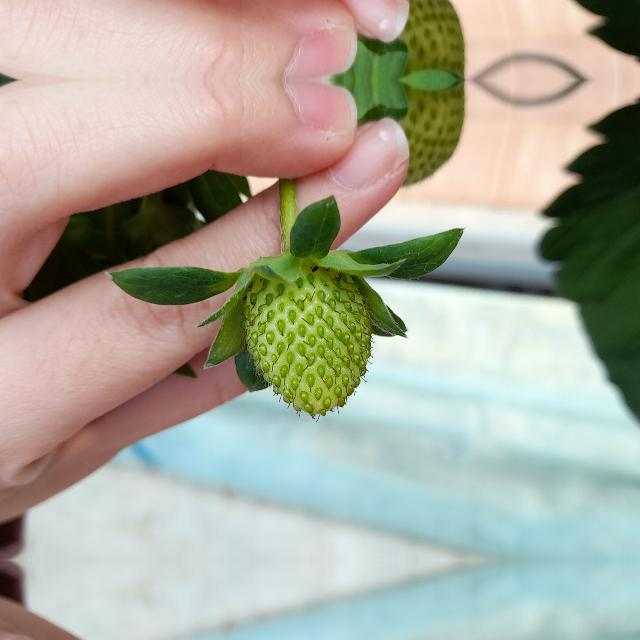Health_25: (244, 259, 372, 416)
